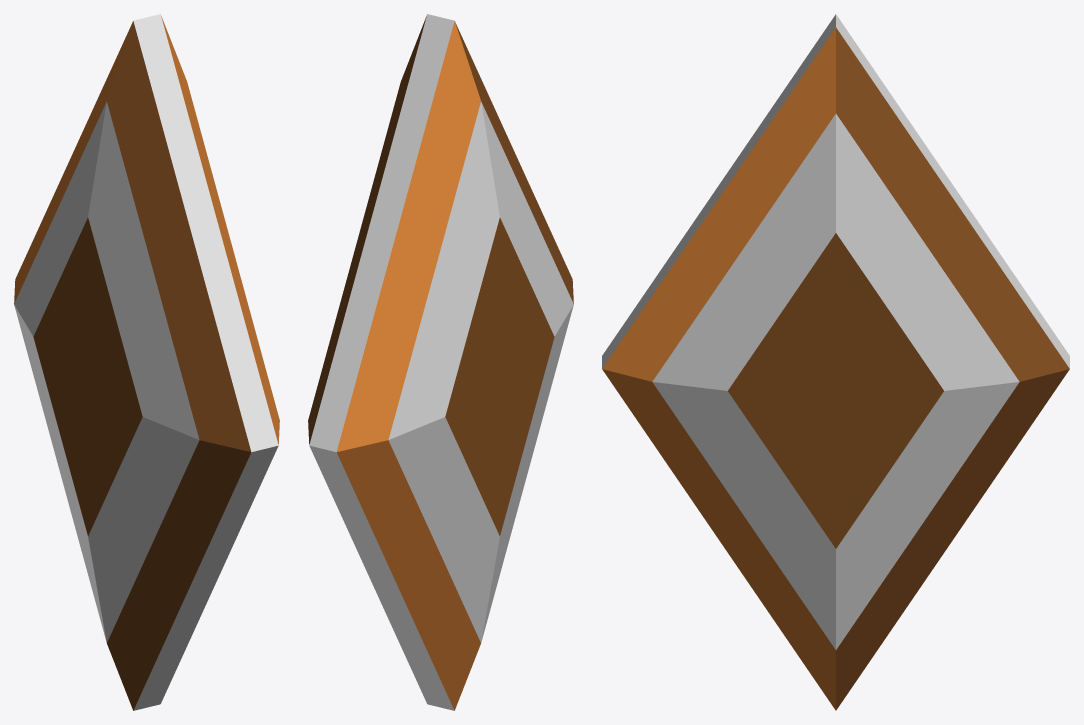
The model's file is Layer_Character.fbx.
3 renders of one model, left to right at view 1: azimuth 30°, elevation 25°; view 2: azimuth 150°, elevation 25°; view 3: azimuth 270°, elevation 25°, orthographic.
Parts seen in each view (by area): view 1: Cube.001; view 2: Cube.001; view 3: Cube.001.
Part boxes in pixels (x1=…): Cube.001: x1=14, y1=14, x2=279, y2=710; Cube.001: x1=308, y1=14, x2=573, y2=710; Cube.001: x1=602, y1=14, x2=1069, y2=710.
Bounding box in the file's own units: 18.24 × 102 × 63.31.
